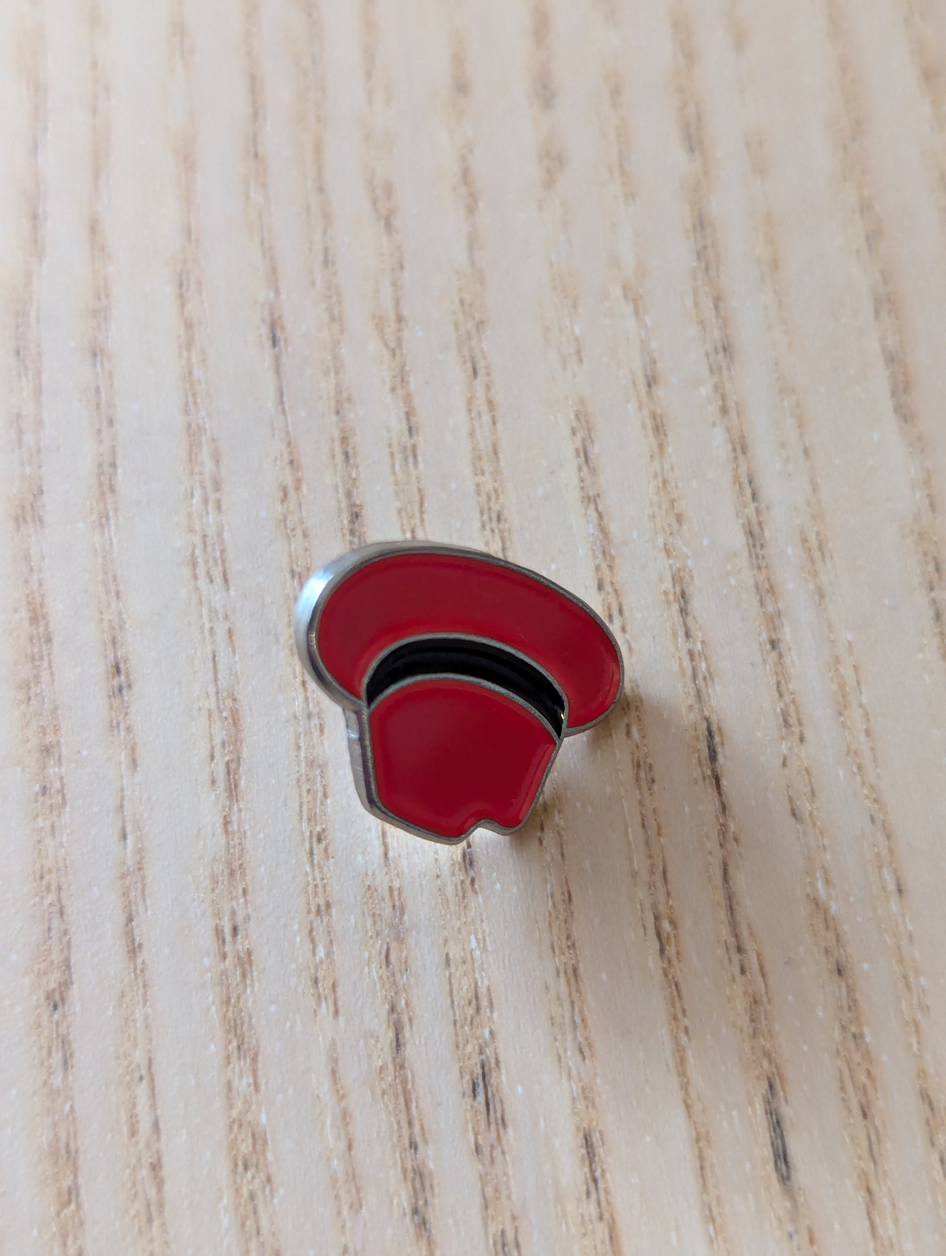Red-Hat: (183, 459, 760, 992)
